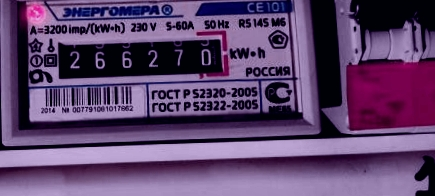0: (198, 46, 211, 67)
2: (66, 48, 81, 70), (145, 47, 158, 69)
6: (92, 50, 106, 70), (118, 49, 132, 68)
7: (170, 47, 184, 68)
screen: (47, 26, 235, 88)
